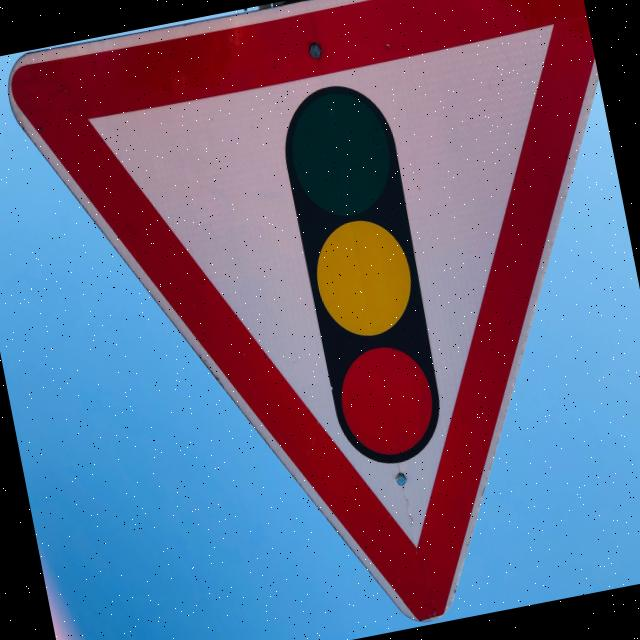light_traffic: (1, 0, 640, 640)
